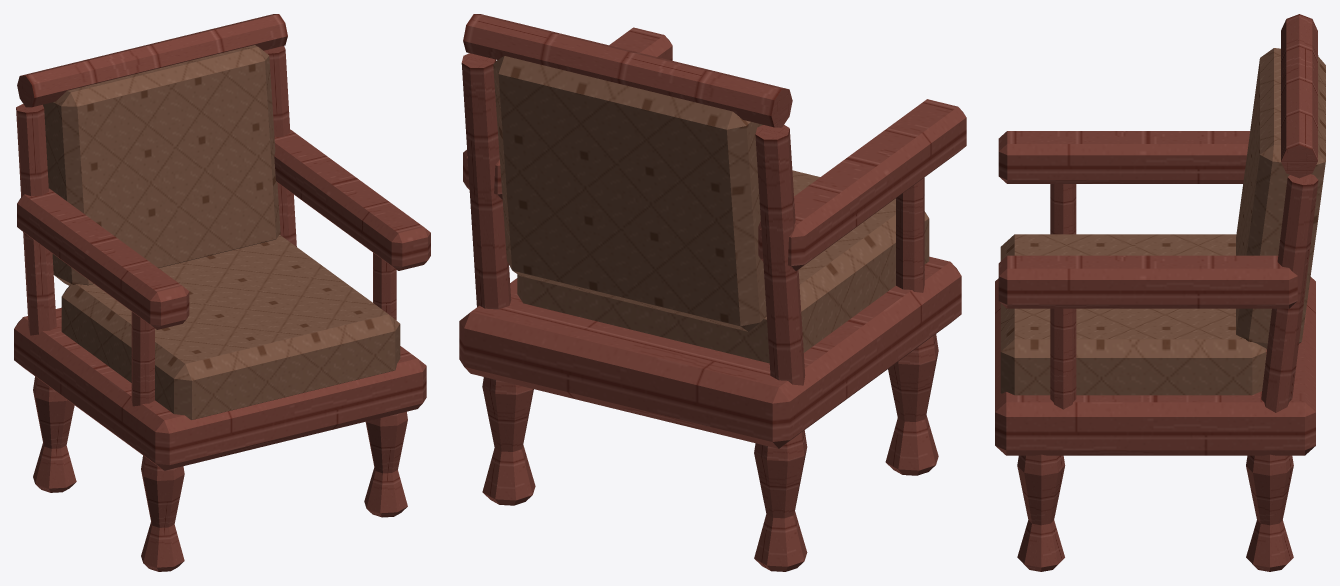
Rendered from MD_23_LeatherArmchair.fbx.
3 renders of one model, left to right at view 1: azimuth 30°, elevation 25°; view 2: azimuth 150°, elevation 25°; view 3: azimuth 270°, elevation 25°, orthographic. The views are drawn at different scales.
Visible parts, largest first — view 1: MD_23_LeatherArmchair_back_upholstery, MD_23_LeatherArmchair_seat_cushion, MD_23_LeatherArmchair_seat_frame, MD_23_LeatherArmchair_arm_rest, MD_23_LeatherArmchair_arm_rest.001, MD_23_LeatherArmchair_back_crown, MD_23_LeatherArmchair_back_upright, MD_23_LeatherArmchair_turned_leg, MD_23_LeatherArmchair_turned_leg.001, MD_23_LeatherArmchair_turned_leg.002, MD_23_LeatherArmchair_back_upright.001, MD_23_LeatherArmchair_arm_support (+1 smaller); view 2: MD_23_LeatherArmchair_back_upholstery, MD_23_LeatherArmchair_seat_frame, MD_23_LeatherArmchair_seat_cushion, MD_23_LeatherArmchair_arm_rest, MD_23_LeatherArmchair_back_crown, MD_23_LeatherArmchair_back_upright, MD_23_LeatherArmchair_back_upright.001, MD_23_LeatherArmchair_turned_leg.001, MD_23_LeatherArmchair_turned_leg, MD_23_LeatherArmchair_turned_leg.003, MD_23_LeatherArmchair_arm_support, MD_23_LeatherArmchair_arm_rest.001; view 3: MD_23_LeatherArmchair_seat_cushion, MD_23_LeatherArmchair_seat_frame, MD_23_LeatherArmchair_arm_rest.001, MD_23_LeatherArmchair_arm_rest, MD_23_LeatherArmchair_back_upholstery, MD_23_LeatherArmchair_back_upright.001, MD_23_LeatherArmchair_back_crown, MD_23_LeatherArmchair_turned_leg.002, MD_23_LeatherArmchair_turned_leg.003, MD_23_LeatherArmchair_arm_support.001, MD_23_LeatherArmchair_arm_support.
Part boxes in pixels (bbox=[...]): MD_23_LeatherArmchair_back_upholstery: bbox=[43, 45, 280, 285]; MD_23_LeatherArmchair_seat_cushion: bbox=[61, 234, 400, 419]; MD_23_LeatherArmchair_seat_frame: bbox=[14, 307, 426, 470]; MD_23_LeatherArmchair_arm_rest: bbox=[17, 188, 189, 329]; MD_23_LeatherArmchair_arm_rest.001: bbox=[274, 129, 430, 270]; MD_23_LeatherArmchair_back_crown: bbox=[17, 14, 287, 107]; MD_23_LeatherArmchair_back_upright: bbox=[16, 104, 56, 335]; MD_23_LeatherArmchair_turned_leg: bbox=[141, 455, 184, 571]; MD_23_LeatherArmchair_turned_leg.001: bbox=[33, 376, 76, 492]; MD_23_LeatherArmchair_turned_leg.002: bbox=[364, 411, 407, 517]; MD_23_LeatherArmchair_back_upright.001: bbox=[263, 46, 296, 246]; MD_23_LeatherArmchair_arm_support: bbox=[131, 312, 154, 406]; MD_23_LeatherArmchair_back_upholstery: bbox=[493, 56, 766, 331]; MD_23_LeatherArmchair_seat_frame: bbox=[459, 256, 961, 448]; MD_23_LeatherArmchair_seat_cushion: bbox=[517, 170, 929, 363]; MD_23_LeatherArmchair_arm_rest: bbox=[758, 99, 966, 270]; MD_23_LeatherArmchair_back_crown: bbox=[463, 14, 792, 127]; MD_23_LeatherArmchair_back_upright: bbox=[755, 125, 805, 385]; MD_23_LeatherArmchair_back_upright.001: bbox=[461, 53, 511, 309]; MD_23_LeatherArmchair_turned_leg.001: bbox=[754, 430, 807, 571]; MD_23_LeatherArmchair_turned_leg: bbox=[885, 334, 938, 475]; MD_23_LeatherArmchair_turned_leg.003: bbox=[482, 377, 535, 505]; MD_23_LeatherArmchair_arm_support: bbox=[896, 177, 924, 292]; MD_23_LeatherArmchair_arm_rest.001: bbox=[463, 27, 672, 199]; MD_23_LeatherArmchair_seat_cushion: bbox=[1000, 234, 1266, 395]; MD_23_LeatherArmchair_seat_frame: bbox=[995, 277, 1315, 455]; MD_23_LeatherArmchair_arm_rest.001: bbox=[998, 255, 1297, 308]; MD_23_LeatherArmchair_arm_rest: bbox=[998, 131, 1250, 183]; MD_23_LeatherArmchair_back_upholstery: bbox=[1236, 48, 1325, 349]; MD_23_LeatherArmchair_back_upright.001: bbox=[1261, 174, 1318, 412]; MD_23_LeatherArmchair_back_crown: bbox=[1281, 14, 1317, 178]; MD_23_LeatherArmchair_turned_leg.002: bbox=[1017, 454, 1065, 571]; MD_23_LeatherArmchair_turned_leg.003: bbox=[1246, 454, 1293, 571]; MD_23_LeatherArmchair_arm_support.001: bbox=[1050, 308, 1076, 409]; MD_23_LeatherArmchair_arm_support: bbox=[1050, 184, 1076, 234].
Size of the model in its own units: 0.93 by 1.28 by 0.8968.
2 materials, 2 textured.
